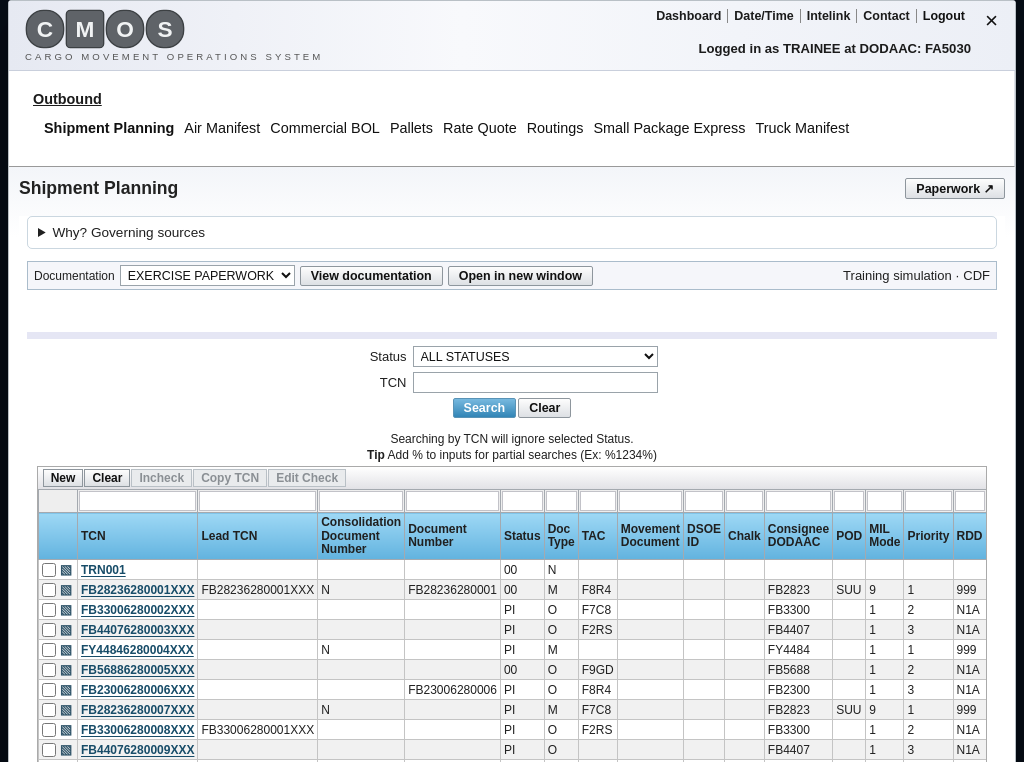
Test: planning toolbar follows checkbox selection and clears the selected shipment
The image size is (1024, 762).
Step 1. Click the checkbox named "Select row TRN001" → {"x": 49, "y": 570}, box [42,563,56,577]
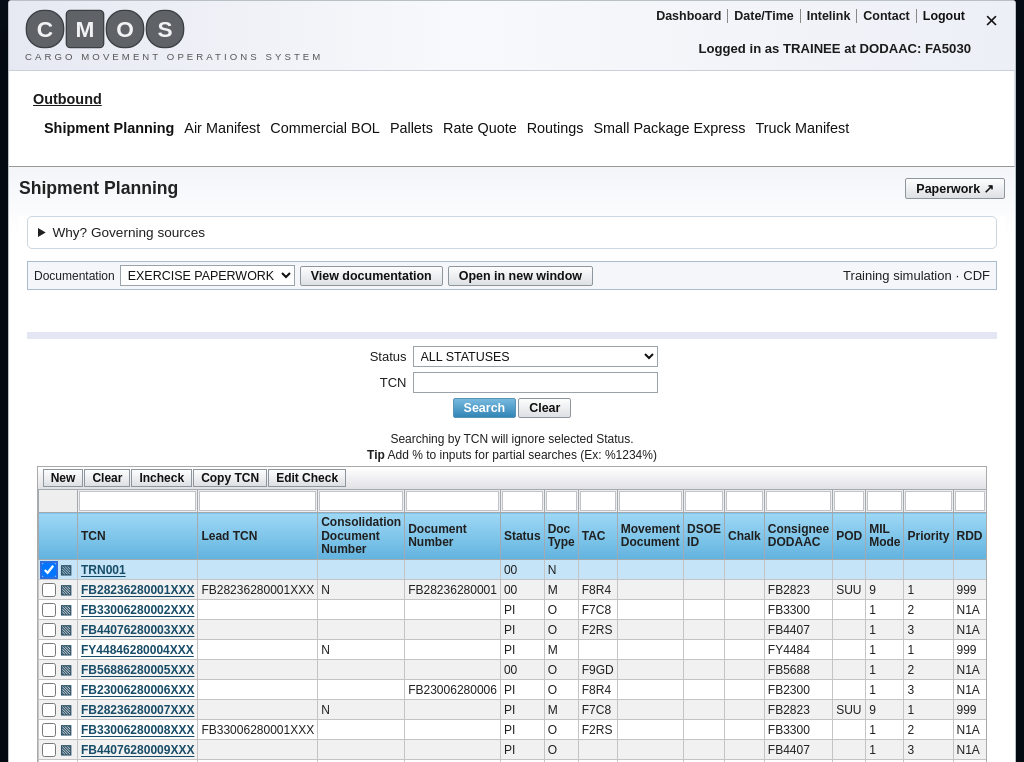
Check: the button "Copy TCN" is enabled, box [193,470,267,488]
Step 2. Click the button with aria-label "Clear selection" → {"x": 107, "y": 478}, box [84,470,130,488]
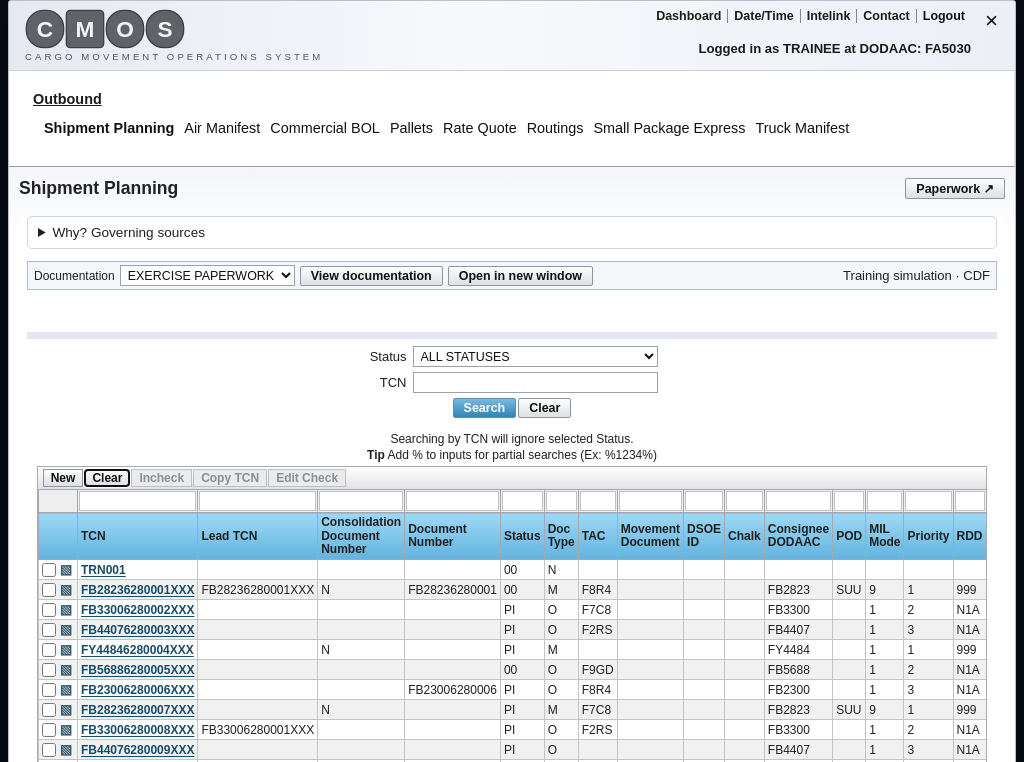
Check: the button "Copy TCN" is disabled, box [193,470,267,488]
Check: the button "Edit Check" is disabled, box [268,470,346,488]
